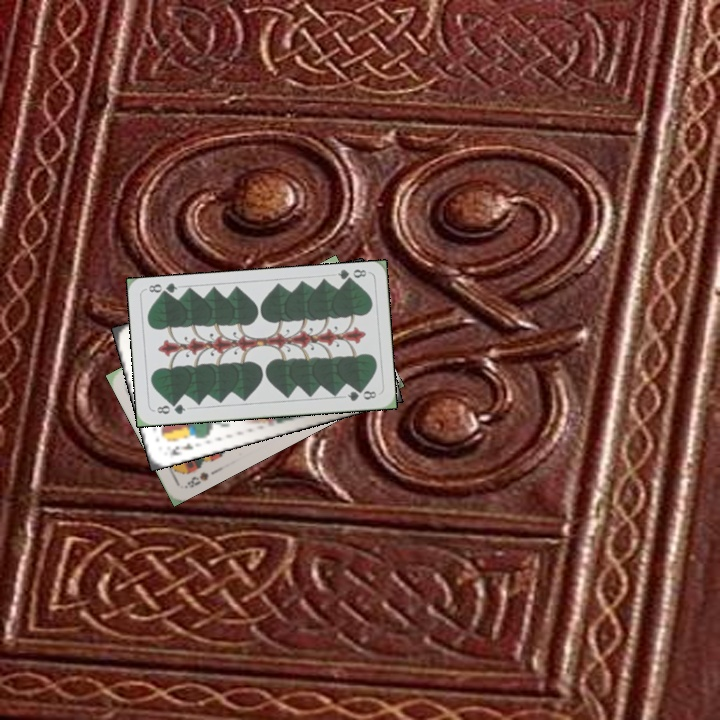EK: (166, 439, 196, 458)
G8: (334, 265, 369, 286), (153, 399, 188, 417)
S8: (180, 468, 211, 491)
